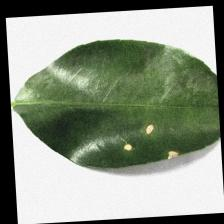canker: (111, 120, 184, 172)
